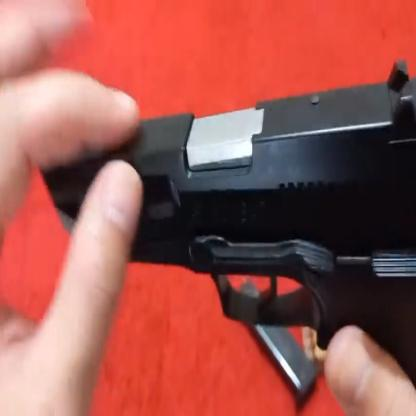handgun: (72, 57, 416, 309)
